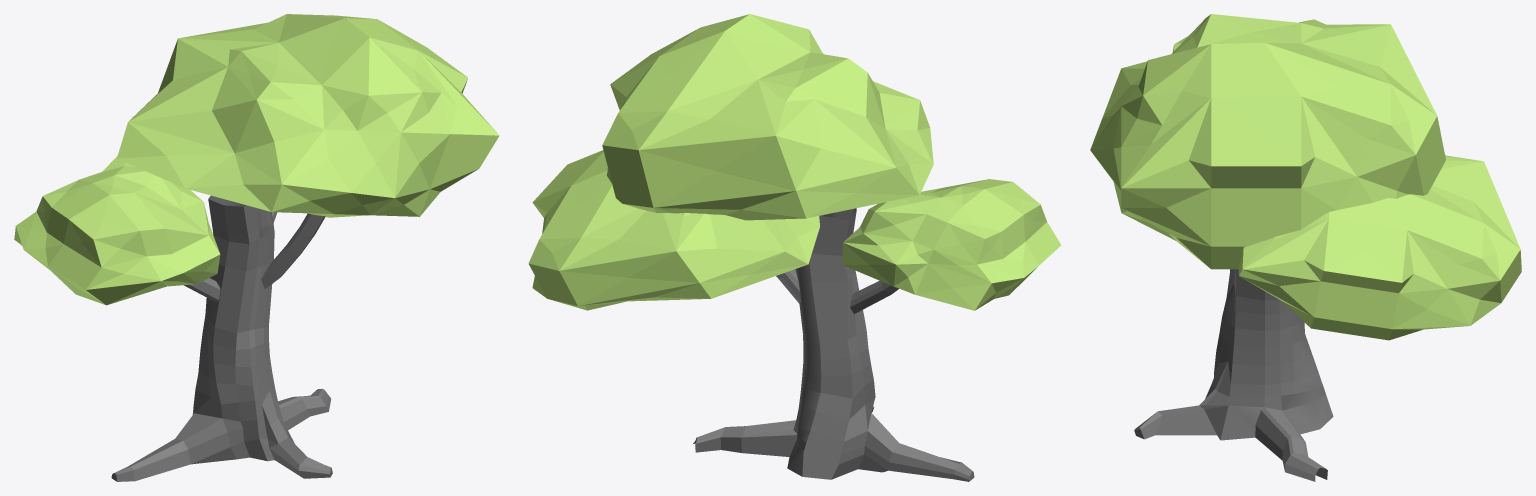
The model's file is arbre_moyen_alt.fbx.
The picture shows the model from 3 angles, left to right: view 1: azimuth 30°, elevation 25°; view 2: azimuth 150°, elevation 25°; view 3: azimuth 270°, elevation 25°; orthographic projection. The views are drawn at different scales.
Parts seen in each view (by area): view 1: arbre_moyen_alt; view 2: arbre_moyen_alt; view 3: arbre_moyen_alt.
Boxes of the visible parts, left/top/right/bottom form: arbre_moyen_alt: left=14, top=14, right=499, bottom=481; arbre_moyen_alt: left=528, top=14, right=1061, bottom=481; arbre_moyen_alt: left=1090, top=14, right=1521, bottom=481.
Size of the model in its own units: 129 by 112 by 101.
